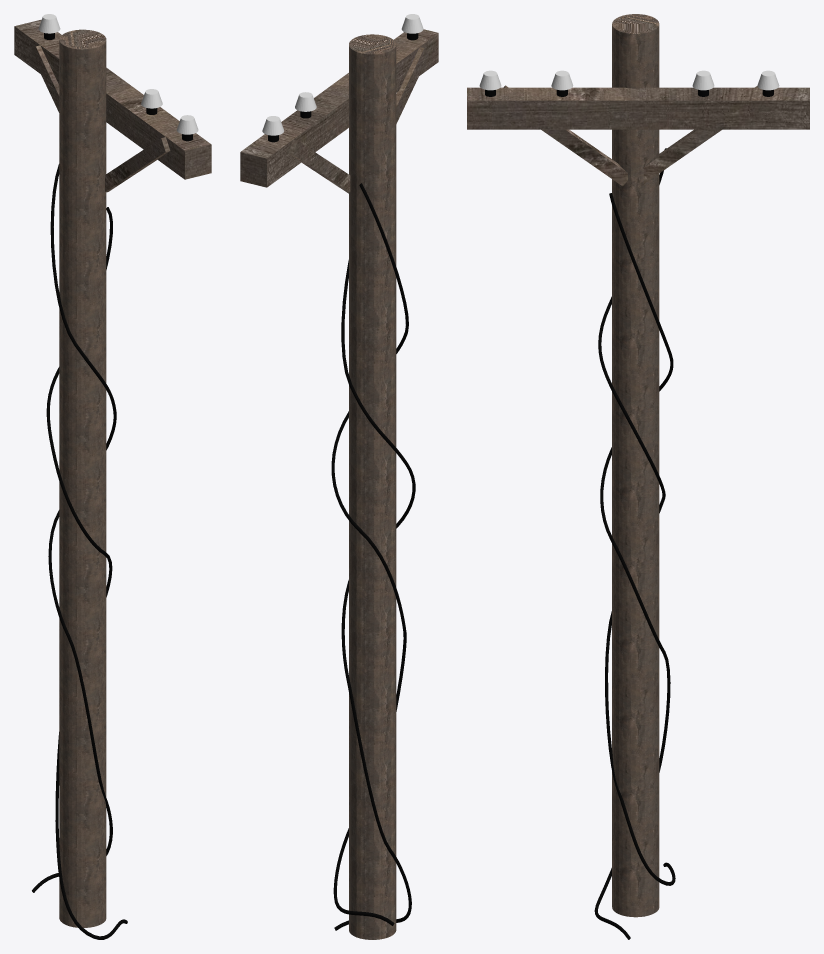
The model's file is power-pole.glb.
3 renders of one model, left to right at view 1: azimuth 30°, elevation 25°; view 2: azimuth 150°, elevation 25°; view 3: azimuth 270°, elevation 25°, orthographic.
Visible parts, largest first — view 1: Circle_0, object 2; view 2: Circle_0, object 2; view 3: Circle_0, object 2.
Boxes of the visible parts, x1,y1,x2,y2 form: Circle_0: (14, 14, 211, 927); object 2: (32, 164, 127, 939); Circle_0: (240, 14, 438, 939); object 2: (331, 183, 415, 930); Circle_0: (467, 14, 809, 917); object 2: (594, 148, 675, 939).
Bounding box in the file's own units: 2.24 × 23.58 × 8.17.
Materials: 3 (1 with a texture image).
